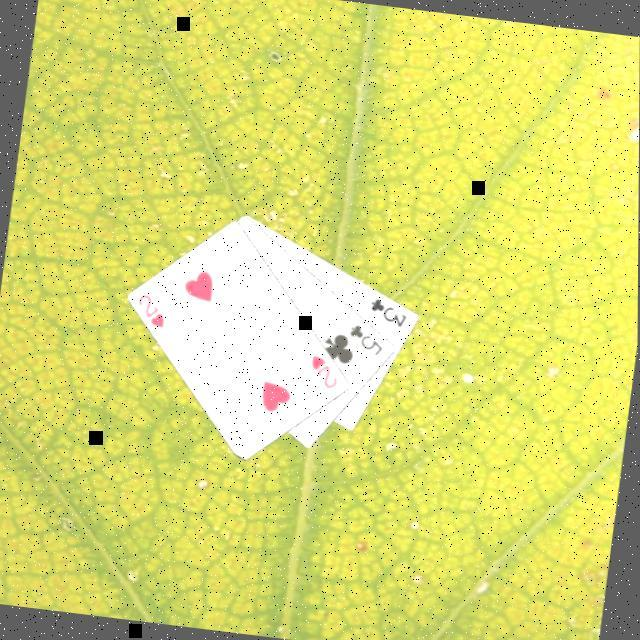2H: (134, 289, 172, 331), (306, 351, 344, 392)
3C: (365, 293, 413, 330)
5C: (345, 317, 389, 358)
